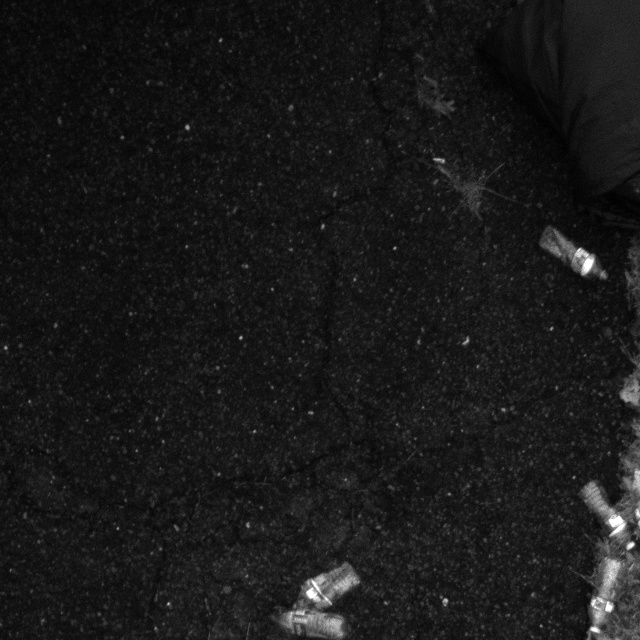bottle: (539, 221, 613, 286), (578, 554, 627, 639), (582, 486, 639, 550), (299, 562, 361, 615)
